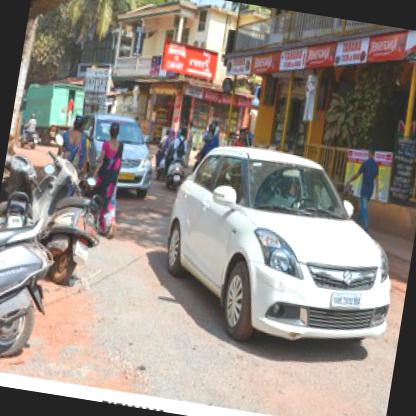car: (154, 135, 414, 364), (70, 109, 159, 203)
motorcycle: (16, 126, 113, 290), (0, 215, 58, 362), (162, 126, 191, 192)
truck: (19, 78, 85, 150)
